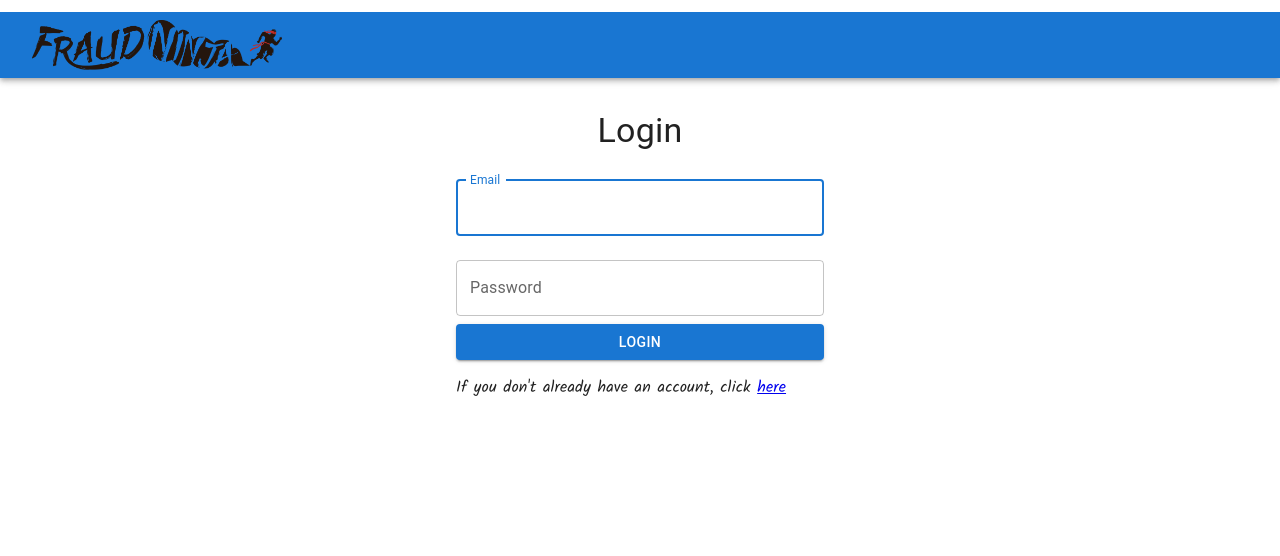
Test: Non Sign In Navigation › navigates to the signup page where the hyperlink is clicked
Click the link "here".
click(772, 388)  # box [757,375,786,400]
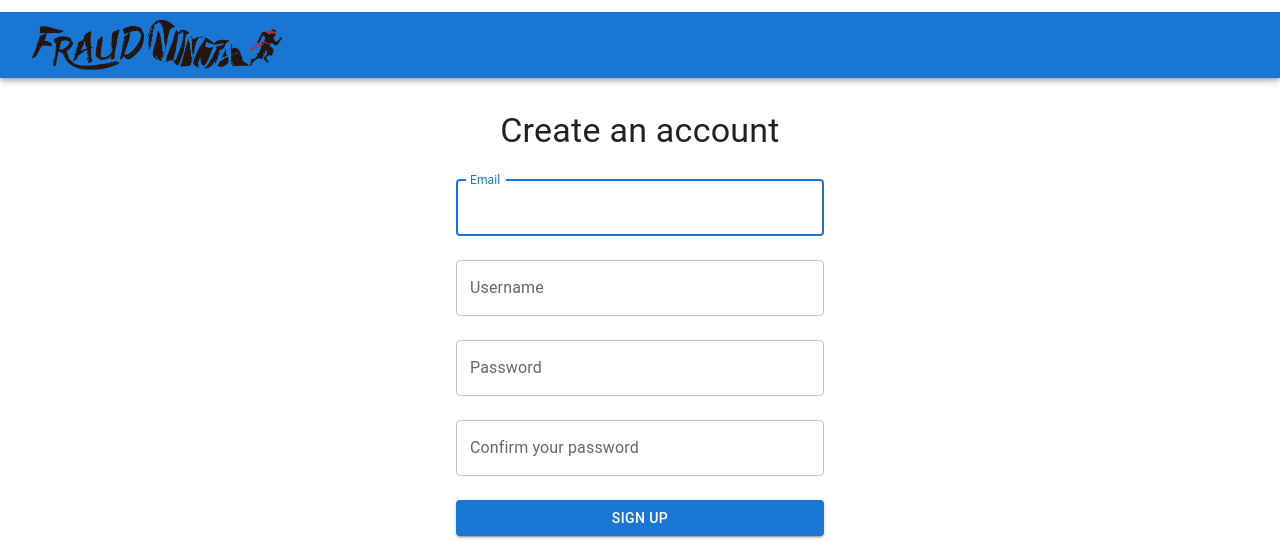
Expected: the heading "Create an account" is shown, [500,110,780,150]
